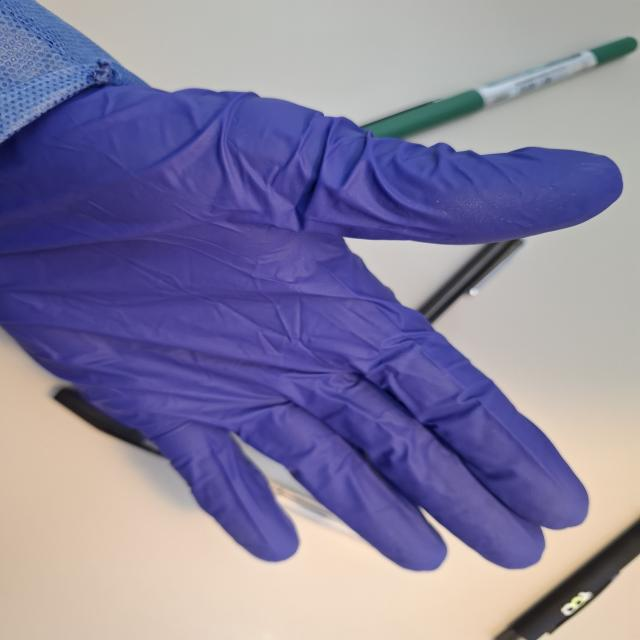glove_on: (0, 71, 625, 570)
